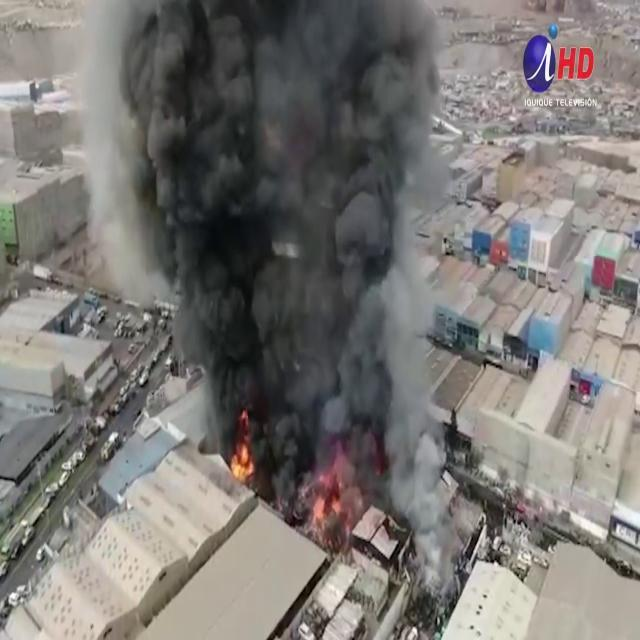Fire: (226, 416, 256, 484)
Smoke: (75, 1, 475, 490)
